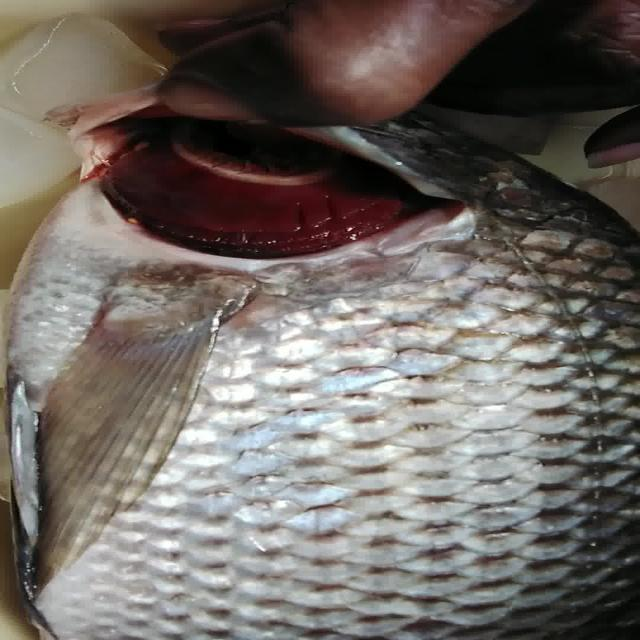Fresh: (6, 92, 456, 262)
